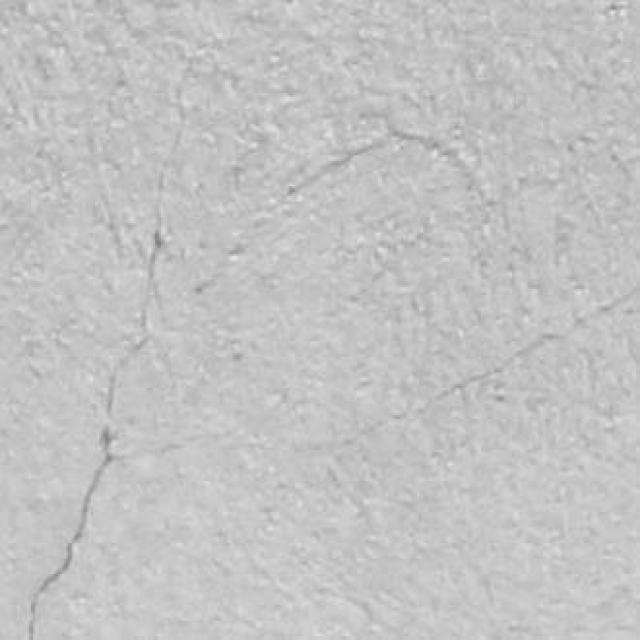crack: (28, 336, 149, 639), (433, 286, 639, 403), (28, 427, 116, 639), (140, 64, 190, 333), (288, 138, 387, 195)
